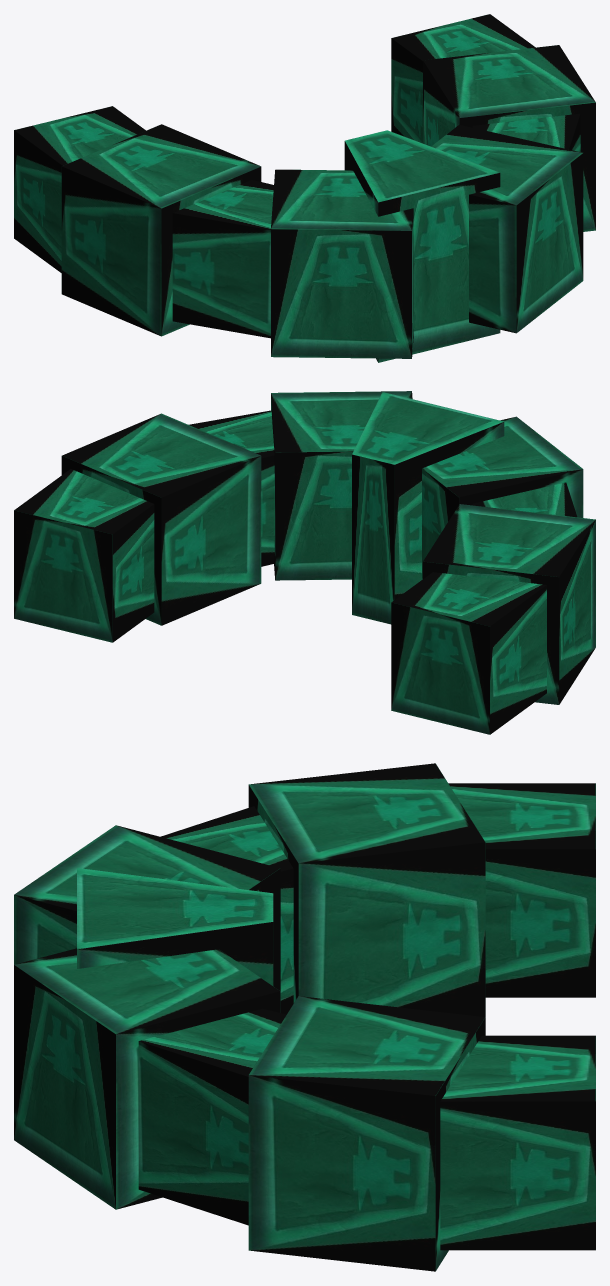
File: arch1dp_wtf.obj
The picture shows the model from 3 angles, top to bottom: view 1: azimuth 30°, elevation 25°; view 2: azimuth 150°, elevation 25°; view 3: azimuth 270°, elevation 25°; orthographic projection. The views are drawn at different scales.
Parts seen in each view (by area): view 1: group2; view 2: group2; view 3: group2.
Part boxes in pixels (bbox=[...]): group2: bbox=[14, 14, 595, 362]; group2: bbox=[14, 391, 595, 734]; group2: bbox=[14, 763, 595, 1271].
Bounding box in the file's own units: 660 × 203 × 488.
